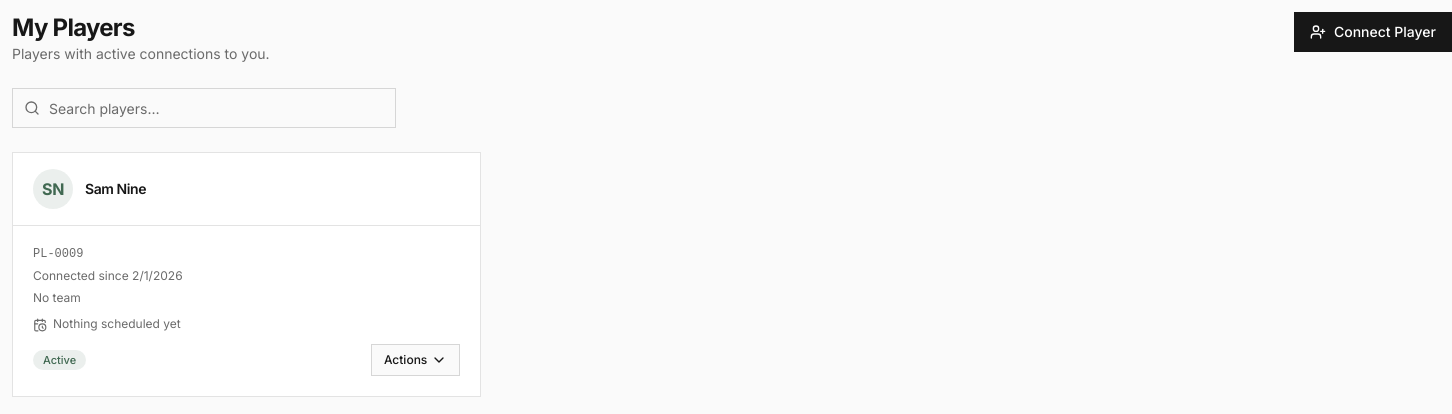
Scenario: PlayersPage empty state › with a roster but a search miss: a different message and NO connect action
In the field with placeholder "Search players…": [204, 108] box x1=12 y1=88 x2=396 y2=128, type "zzz"
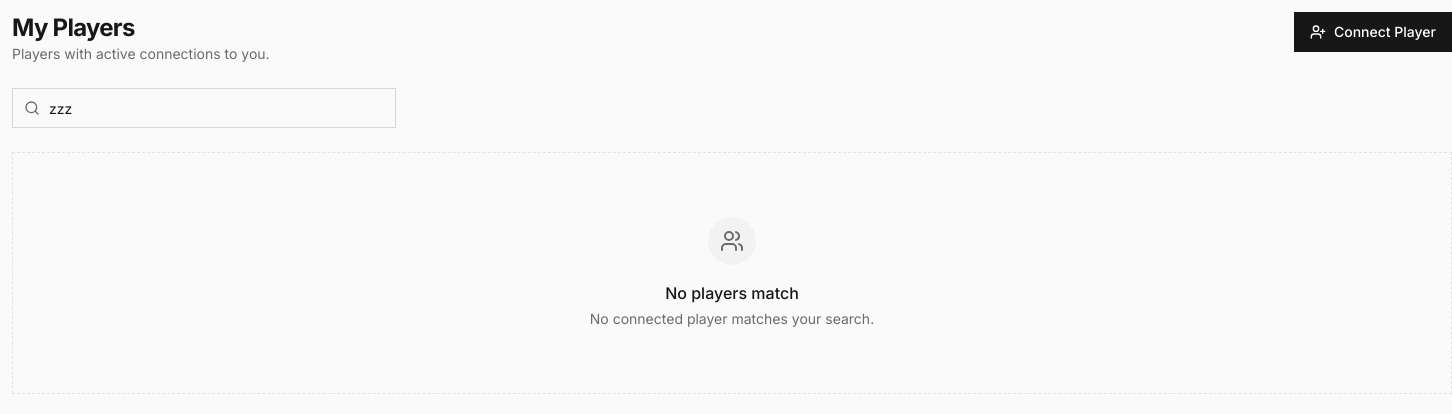
Now the text "No players match" is shown, box x1=665 y1=283 x2=799 y2=303
